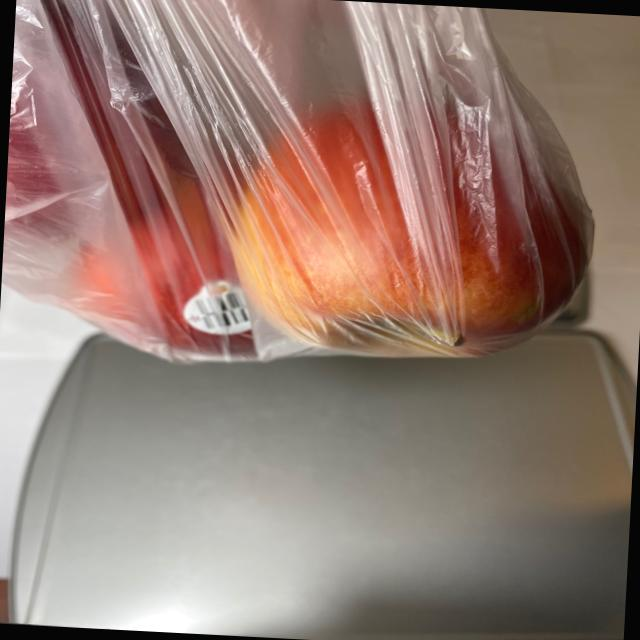apple: (0, 32, 605, 383)
